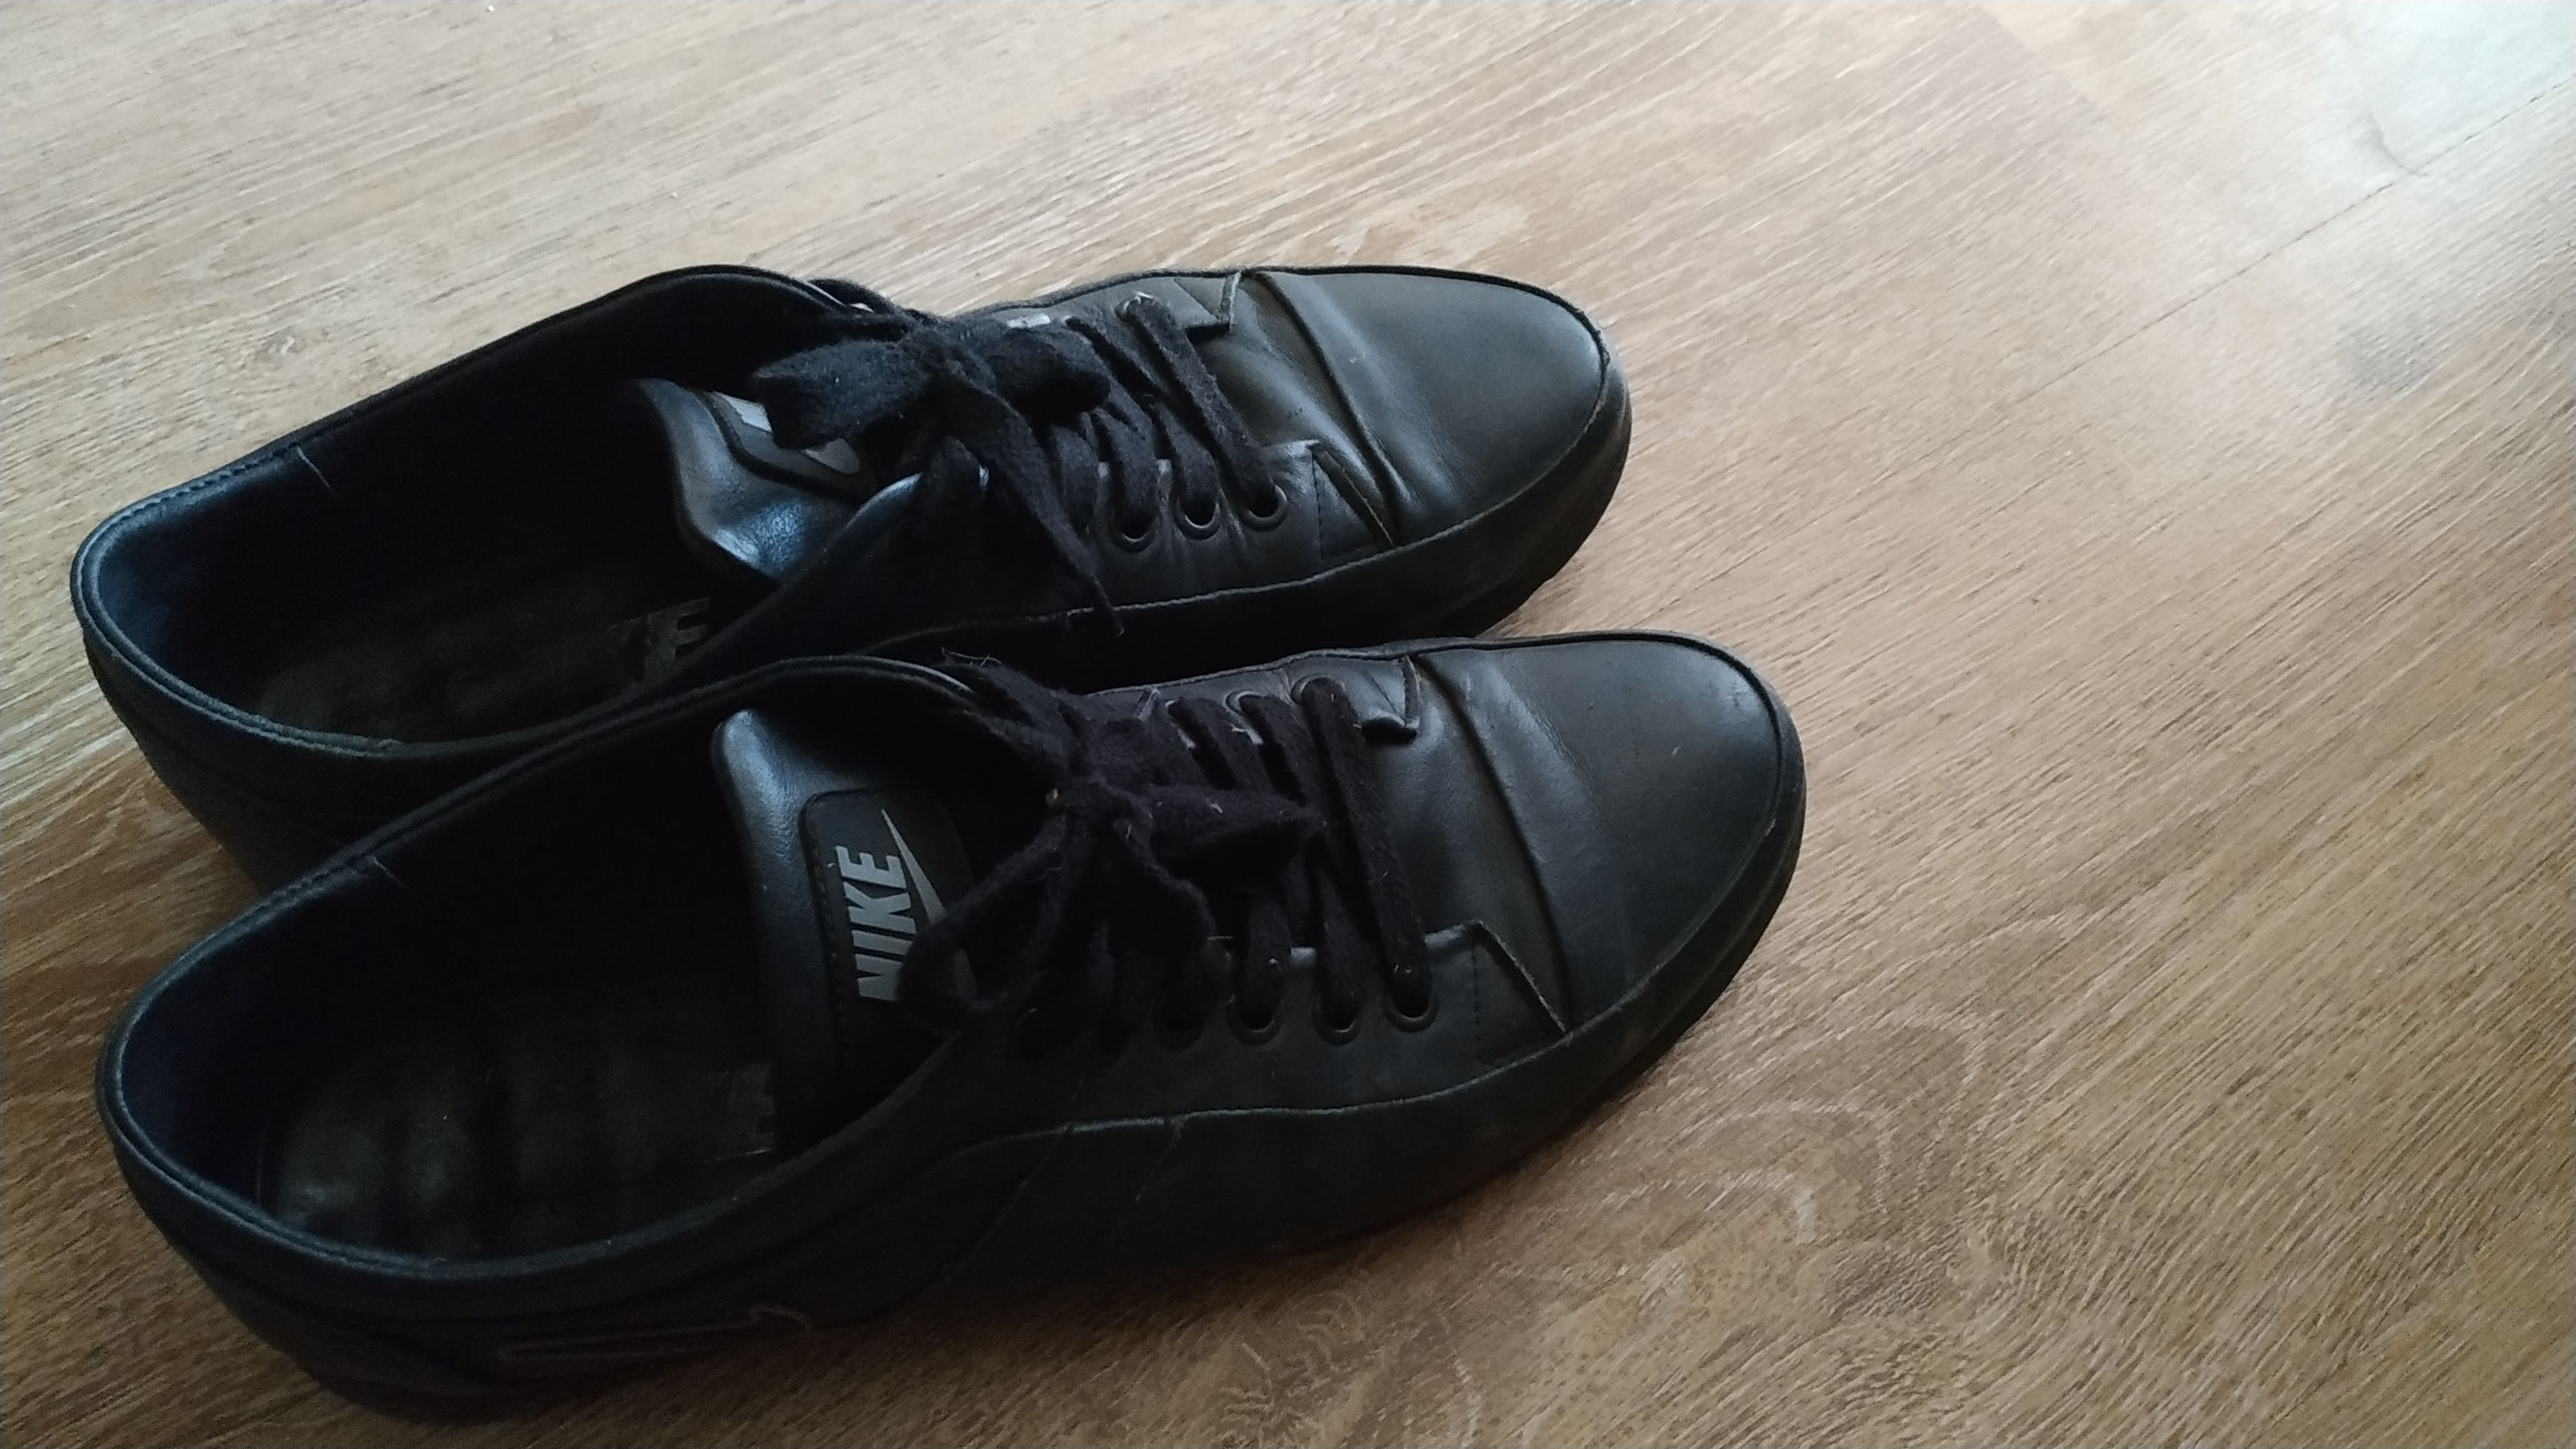clothes: (50, 249, 1833, 1279)
